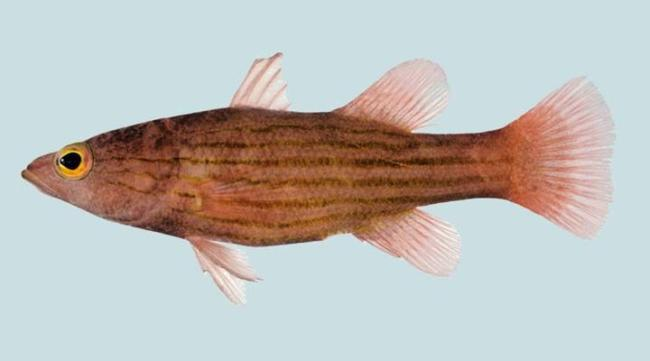fish: (21, 51, 618, 308)
